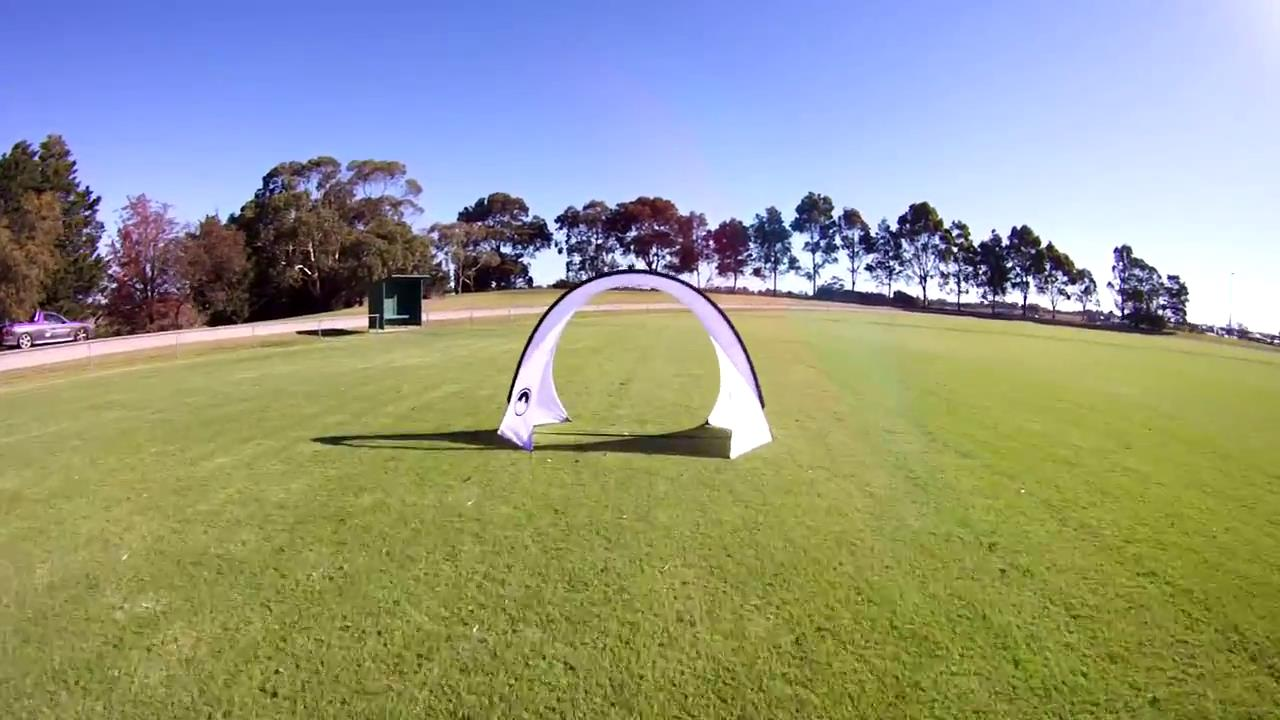gate: (491, 270, 776, 461)
